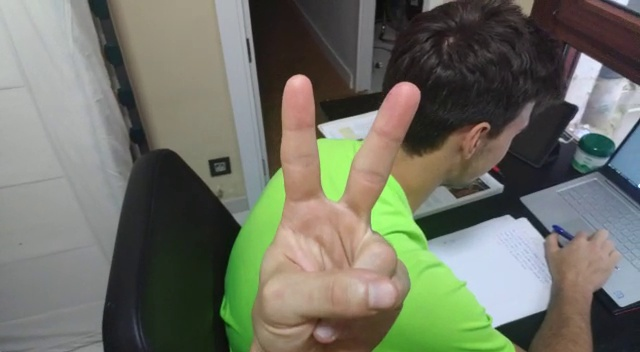Peace: (246, 74, 423, 349)
